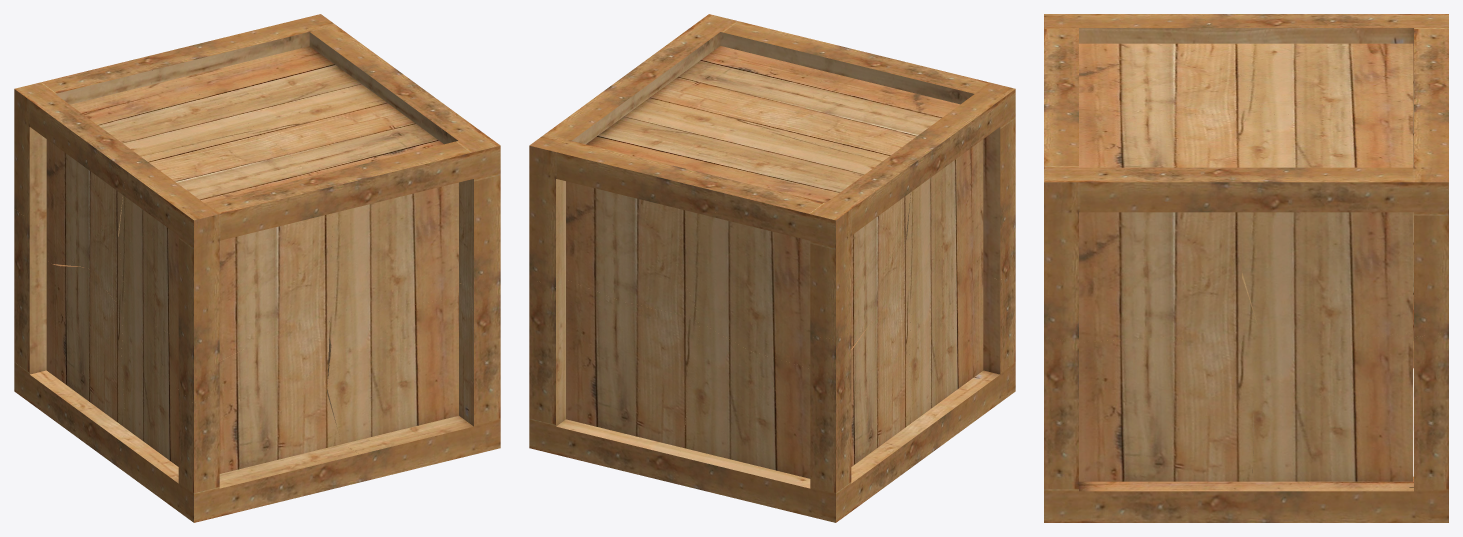
File: CrateFractured.FBX
The picture shows the model from 3 angles, left to right: view 1: azimuth 30°, elevation 25°; view 2: azimuth 150°, elevation 25°; view 3: azimuth 270°, elevation 25°; orthographic projection. The views are drawn at different scales.
Visible parts, largest first — view 1: Crate_frag_05, Crate_frag_34, Crate_frag_33, Crate_frag_06, Crate_frag_20, Crate_frag_02, Crate_frag_19, Crate_frag_01, Crate_frag_09, Crate_frag_26, Crate_frag_28, Crate_frag_21 (+8 smaller); view 2: Crate_frag_14, Crate_frag_24, Crate_frag_07, Crate_frag_03, Crate_frag_01, Crate_frag_13, Crate_frag_05, Crate_frag_23, Crate_frag_04, Crate_frag_27, Crate_frag_11, Crate_frag_25 (+8 smaller); view 3: Crate_frag_29, Crate_frag_30, Crate_frag_31, Crate_frag_32, Crate_frag_02, Crate_frag_03, Crate_frag_11, Crate_frag_12, Crate_frag_04, Crate_frag_09, Crate_frag_26, Crate_frag_01 (+3 smaller).
Boxes of the visible parts, bbox=[...] form: Crate_frag_05: bbox=[124, 160, 376, 402]; Crate_frag_34: bbox=[327, 296, 458, 444]; Crate_frag_33: bbox=[219, 319, 341, 473]; Crate_frag_06: bbox=[117, 389, 360, 522]; Crate_frag_20: bbox=[331, 182, 458, 315]; Crate_frag_02: bbox=[355, 73, 500, 288]; Crate_frag_19: bbox=[219, 213, 346, 360]; Crate_frag_01: bbox=[14, 59, 151, 220]; Crate_frag_09: bbox=[342, 283, 500, 481]; Crate_frag_26: bbox=[174, 46, 382, 131]; Crate_frag_28: bbox=[46, 260, 124, 426]; Crate_frag_21: bbox=[46, 139, 124, 309]; Crate_frag_14: bbox=[566, 280, 699, 447]; Crate_frag_24: bbox=[676, 210, 810, 368]; Crate_frag_07: bbox=[673, 330, 897, 522]; Crate_frag_03: bbox=[529, 86, 728, 287]; Crate_frag_01: bbox=[715, 137, 946, 339]; Crate_frag_13: bbox=[681, 322, 810, 478]; Crate_frag_05: bbox=[822, 45, 1015, 280]; Crate_frag_23: bbox=[566, 181, 699, 322]; Crate_frag_04: bbox=[529, 279, 682, 482]; Crate_frag_27: bbox=[909, 242, 983, 422]; Crate_frag_11: bbox=[764, 73, 959, 154]; Crate_frag_25: bbox=[645, 46, 830, 129]; Crate_frag_29: bbox=[1079, 337, 1253, 481]; Crate_frag_30: bbox=[1229, 332, 1412, 481]; Crate_frag_31: bbox=[1079, 212, 1260, 349]; Crate_frag_32: bbox=[1234, 212, 1412, 348]; Crate_frag_02: bbox=[1044, 111, 1272, 342]; Crate_frag_03: bbox=[1264, 80, 1448, 337]; Crate_frag_11: bbox=[1079, 43, 1262, 123]; Crate_frag_12: bbox=[1232, 43, 1413, 114]; Crate_frag_04: bbox=[1308, 333, 1448, 522]; Crate_frag_09: bbox=[1044, 338, 1189, 522]; Crate_frag_26: bbox=[1232, 108, 1413, 167]; Crate_frag_01: bbox=[1202, 14, 1448, 81].
Bounding box in the file's own units: 51.45 × 48.5 × 52.25.
